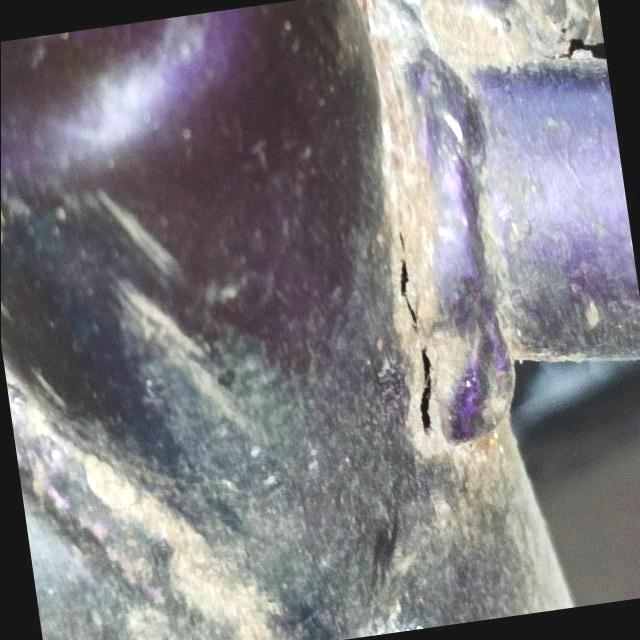defect: (396, 227, 437, 445)
